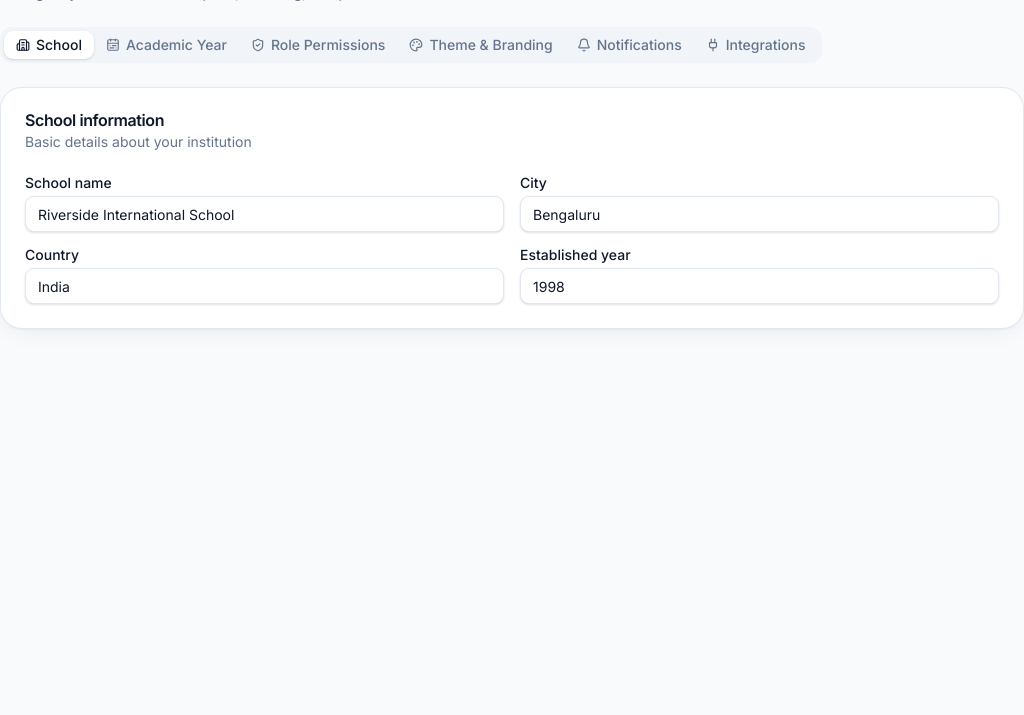
Test: SettingsPage — Role Permissions matrix › renders a matrix row for every nav module and action permission
The image size is (1024, 715).
What coordinates should you click on to do the following:
click the tab "Role Permissions"
I would click on:
 (318, 45)
Its box is [239,31,397,59].
(page scrolled)
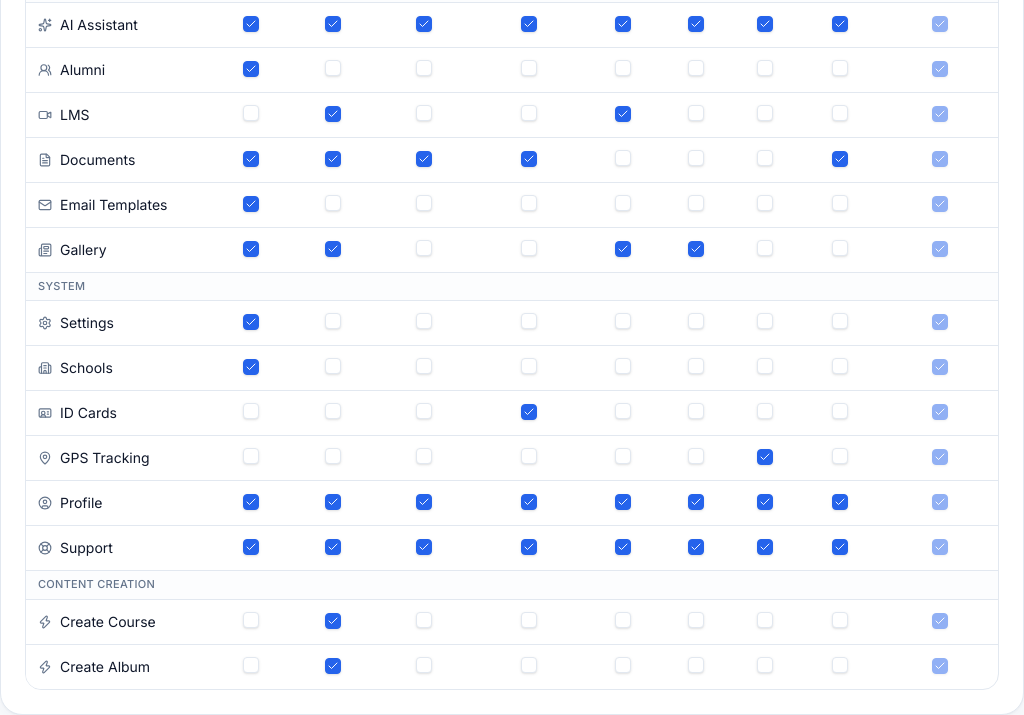
Expected: the text "Create Course" is shown, [26,600,208,644]
